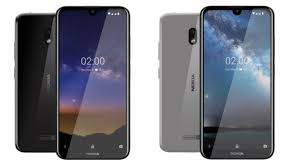nokia: (54, 3, 133, 162), (197, 2, 276, 161), (157, 11, 200, 151), (14, 12, 57, 152)
